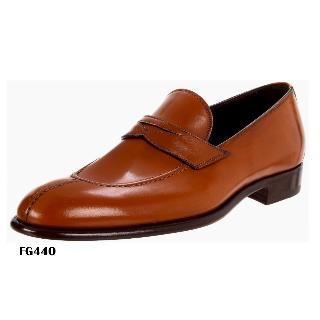loafers: (12, 76, 308, 242)
